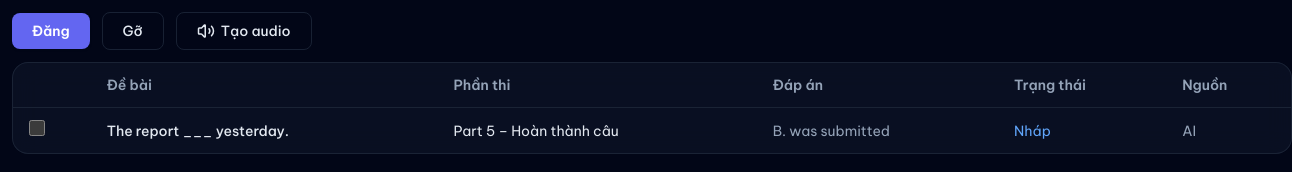
QuestionTable › chỉ hiện thông báo của nút vừa bấm
The width and height of the screenshot is (1292, 172).
Click the button "Đăng".
click(51, 31)  # box [12,13,90,49]
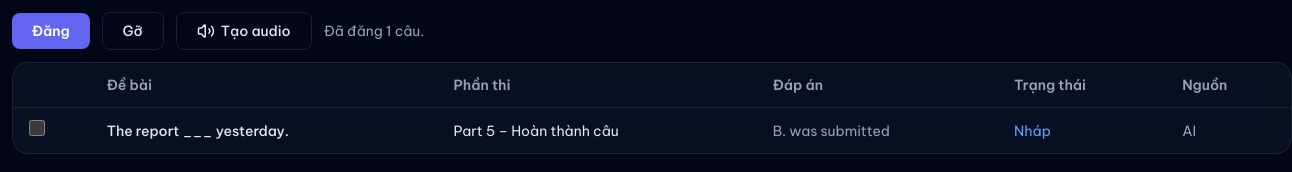
Check: the text "Đã đăng 1 câu." is shown, box [324,21,424,41]
Click the button "Tạo audio".
click(244, 31)  # box [176,12,312,50]
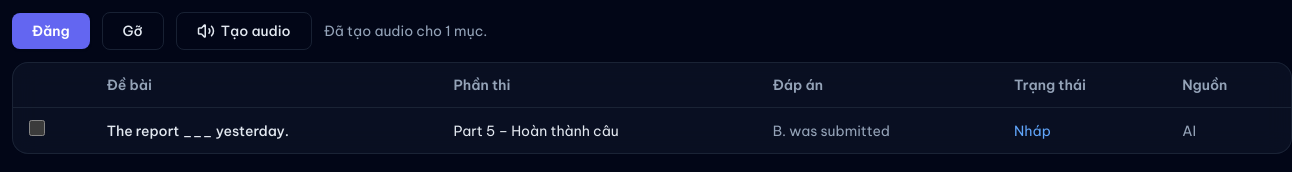
Check: the text "Đã tạo audio cho 1 mục." is shown, box [324,21,487,41]
Check: the text "Đã đăng 1 câu." is gone
